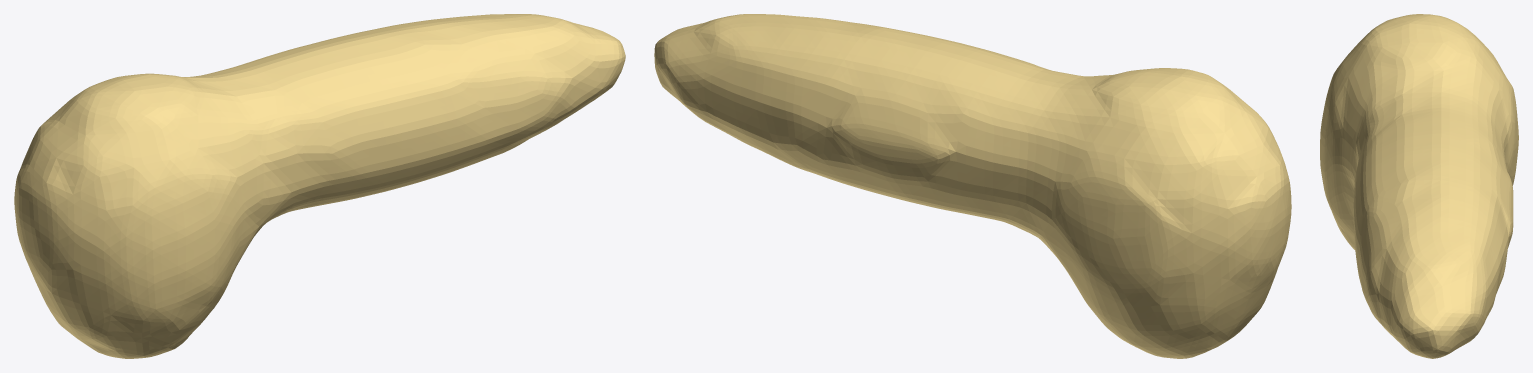
File: organ-pancreas.glb
3 views of the same model, side by side, from view 1: azimuth 30°, elevation 25°; view 2: azimuth 150°, elevation 25°; view 3: azimuth 270°, elevation 25° (orthographic). The views are drawn at different scales.
Parts seen in each view (by area): view 1: geometry_0; view 2: geometry_0; view 3: geometry_0.
Boxes of the visible parts, <box> form: geometry_0: <box>14,14,625,358</box>; geometry_0: <box>654,14,1291,358</box>; geometry_0: <box>1320,14,1518,358</box>.
Size of the model in its own units: 0.2233 by 0.0936 by 0.0677.
